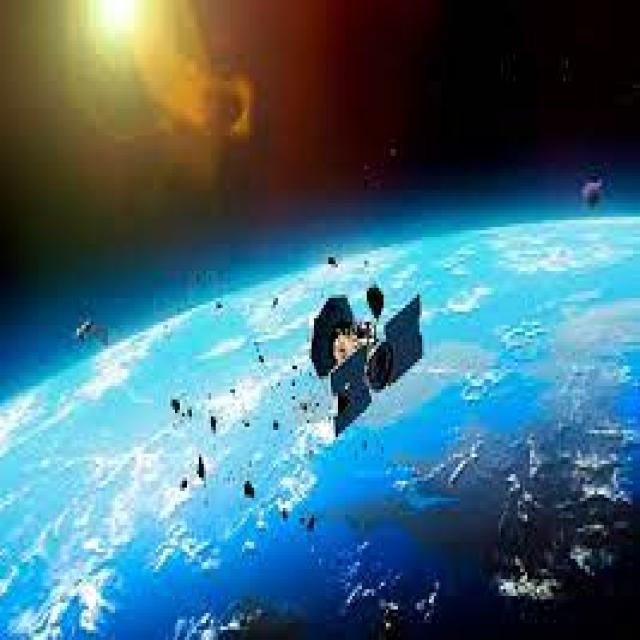large_debris: (50, 292, 113, 356), (220, 280, 286, 330), (243, 476, 292, 534), (170, 388, 217, 440), (358, 284, 393, 325), (578, 174, 608, 221), (177, 456, 219, 484), (300, 513, 324, 540)
medium_debris: (306, 278, 432, 432)
